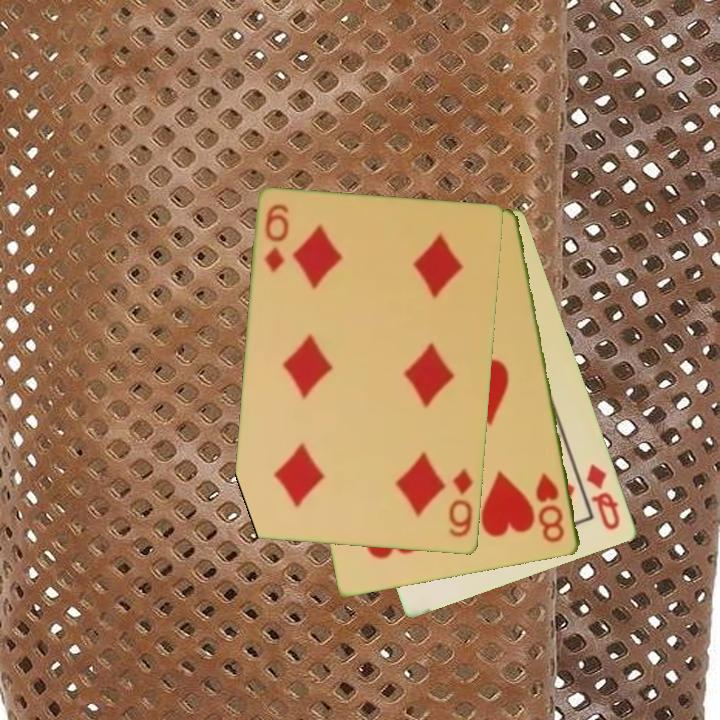6d: (261, 201, 292, 276), (446, 465, 476, 541)
8h: (532, 470, 568, 546)
Qd: (583, 460, 624, 534)
